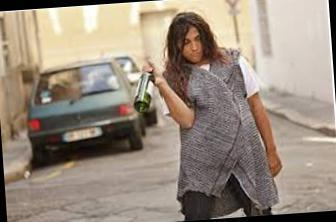Drunk: (182, 31, 204, 63)
